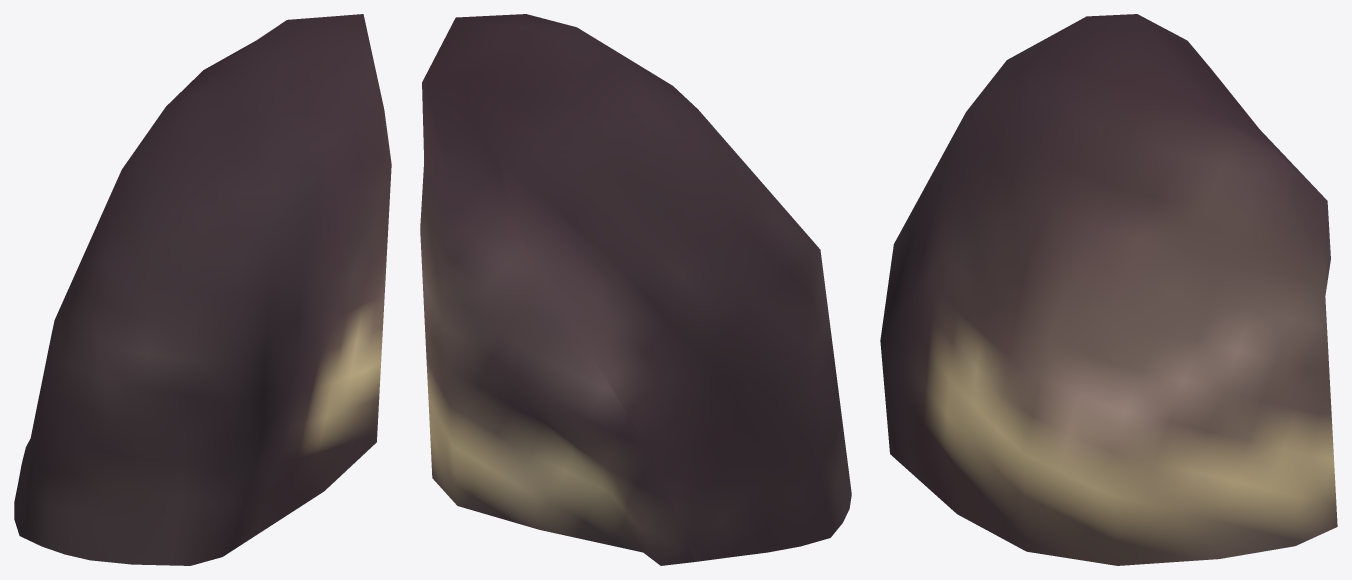
File: Beach_Rocks_6.glb
3 views of the same model, side by side, from view 1: azimuth 30°, elevation 25°; view 2: azimuth 150°, elevation 25°; view 3: azimuth 270°, elevation 25° (orthographic). The views are drawn at different scales.
Parts seen in each view (by area): view 1: Object_2.035; view 2: Object_2.035; view 3: Object_2.035.
Part boxes in pixels (<box>): Object_2.035: <box>14,14,391,565</box>; Object_2.035: <box>420,14,851,565</box>; Object_2.035: <box>880,14,1337,565</box>.
Bounding box in the file's own units: 2.36 × 2.69 × 2.03.
1 material, 1 textured.
